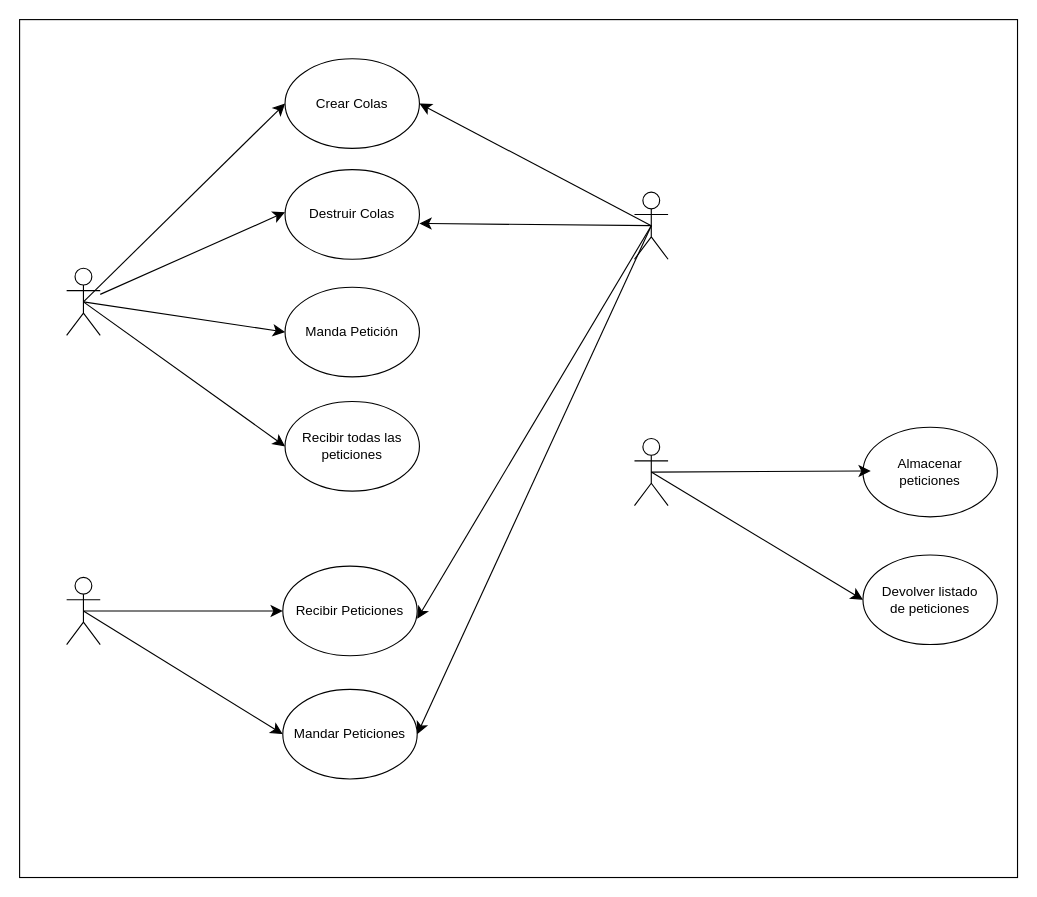
Image size: 1037x897. Some labels were removed from this diagram. Each missing label, with the box of its shape:
BBDD: (633, 437, 668, 506)
Microcontrolador: (66, 576, 100, 645)
RabbitMQ: (633, 191, 668, 259)
Usuario Administrador: (66, 267, 100, 335)
